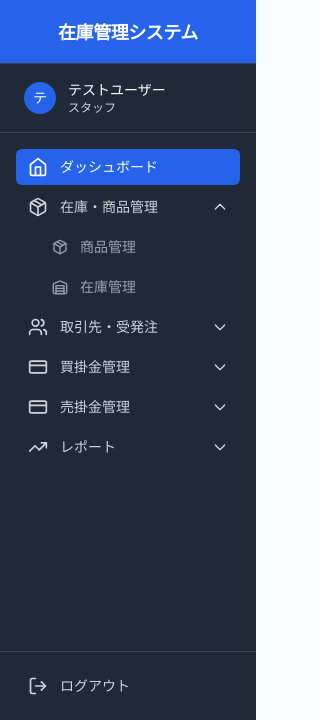
Test: Sidebar › セクション開閉 › should toggle reports section on click
Expected: the text "買掛金残高レポート" is not shown
// クリックして開く
Click the button "レポート". click: [128, 447]
box: [16,429,240,465]
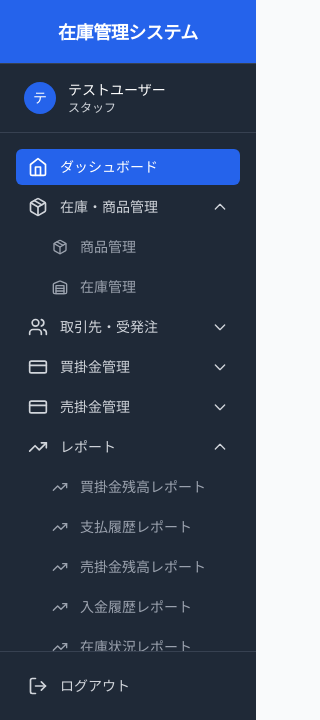
Expected: the link "買掛金残高レポート" is shown, [52,478,206,495]
Expected: the link "在庫状況レポート" is shown, [52,638,192,651]
